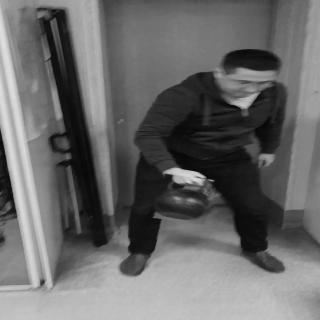kettlebell: (152, 176, 218, 224)
